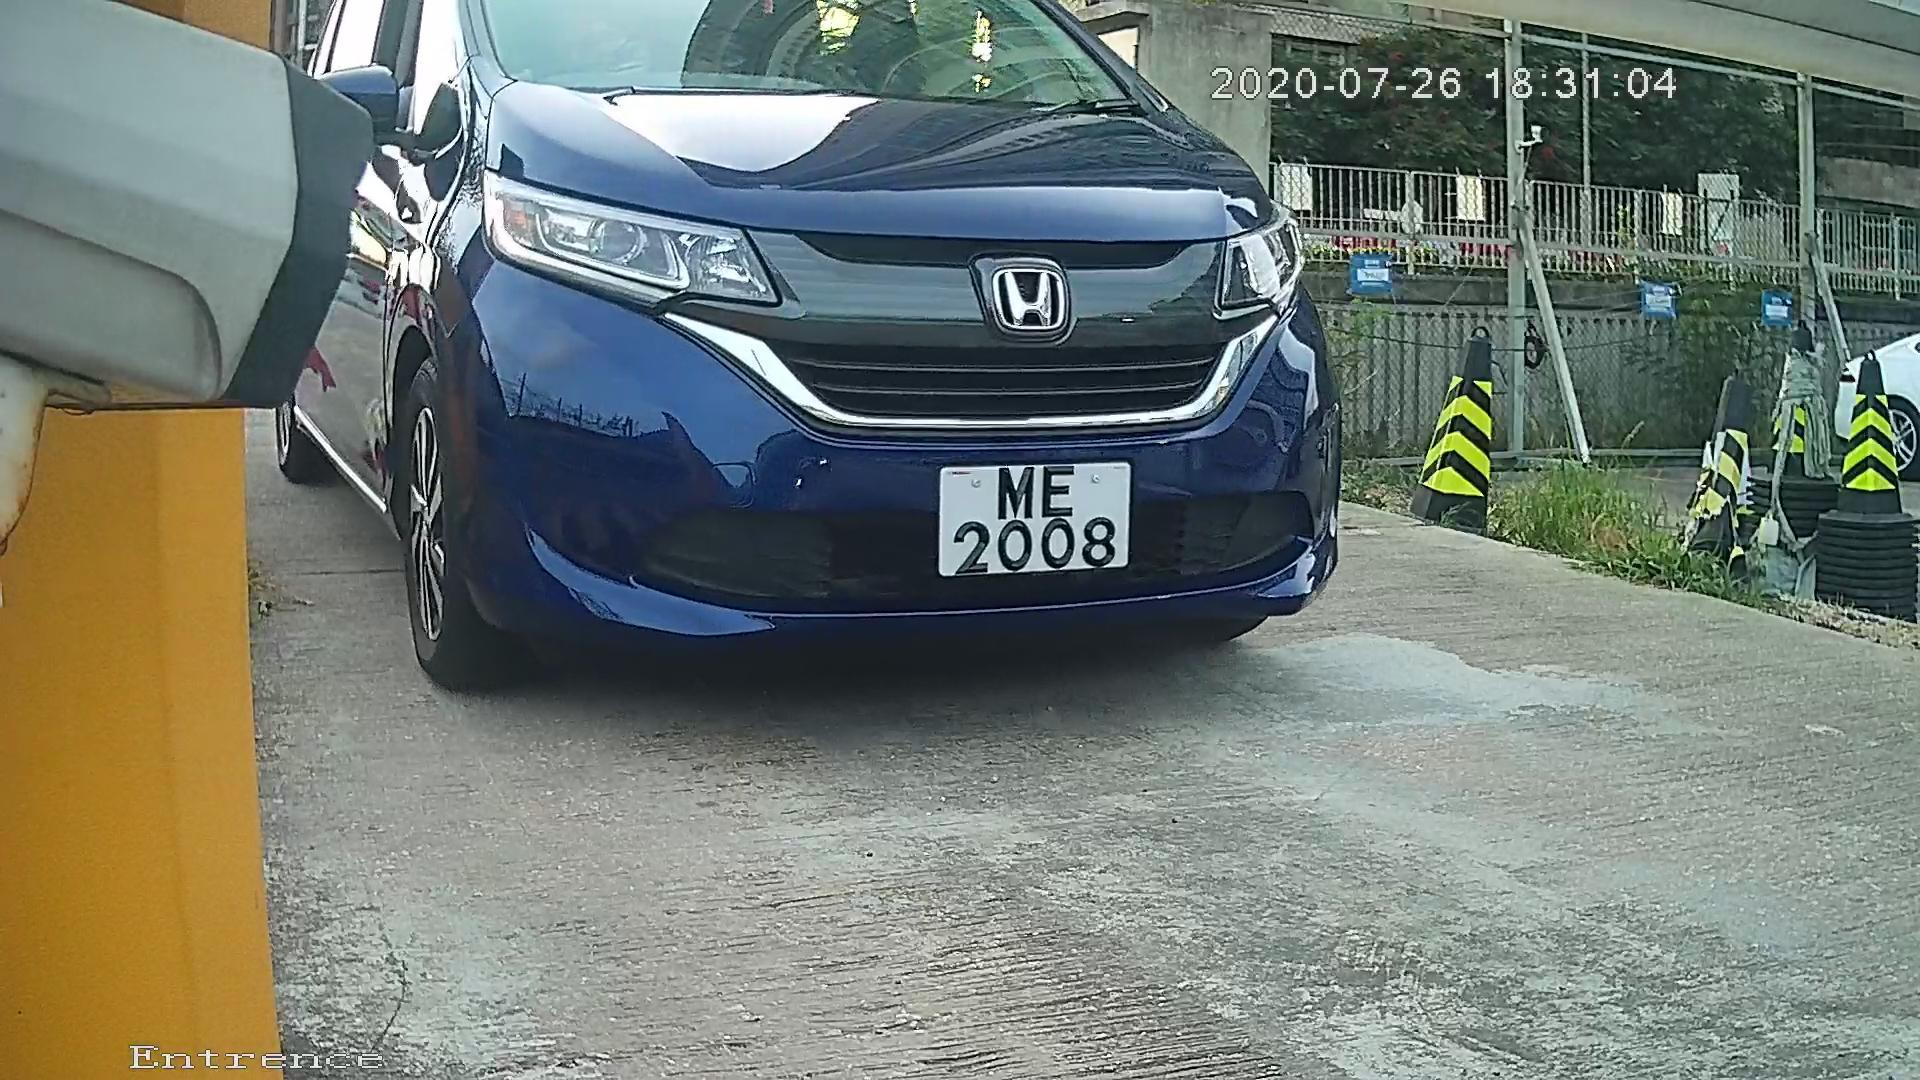License Plate: (918, 454, 1140, 584)
